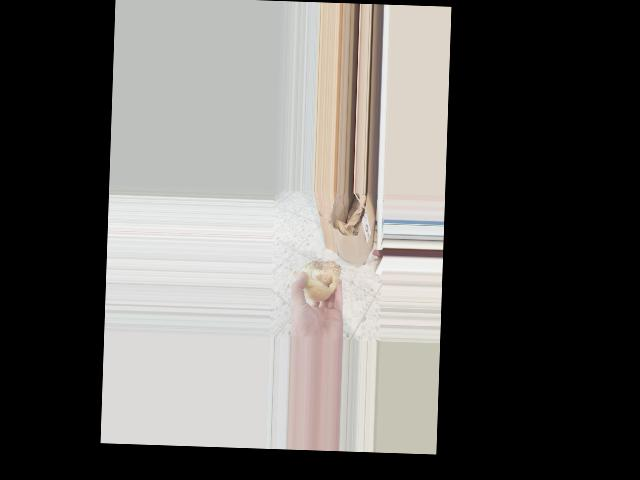onion: (294, 257, 341, 304)
